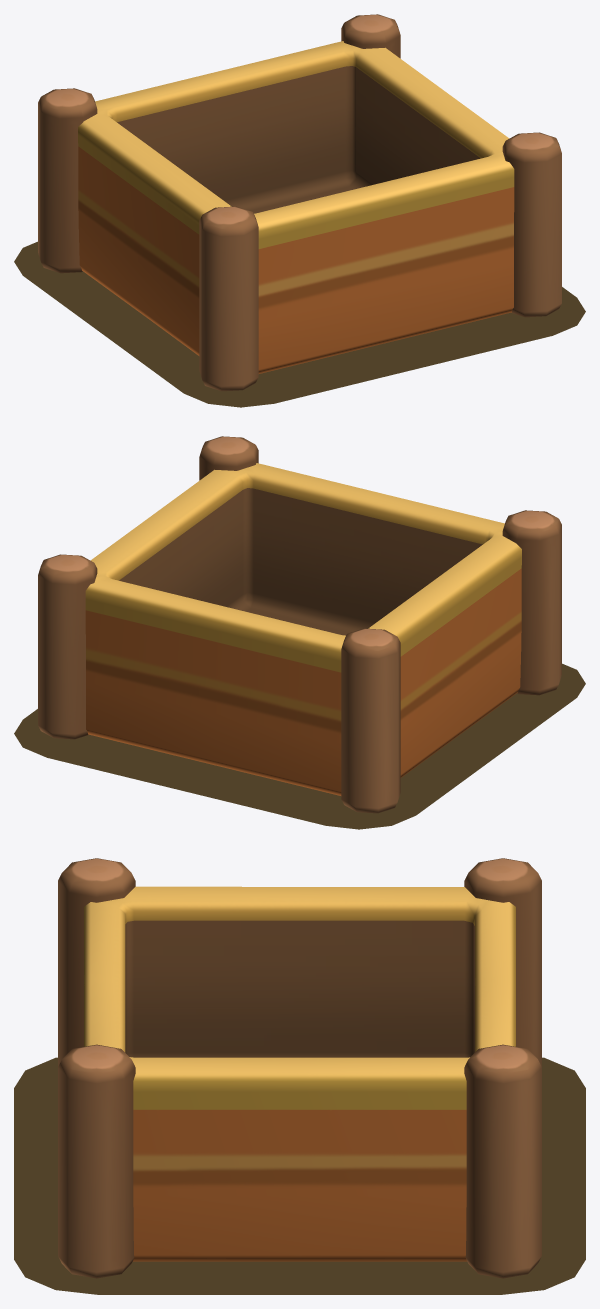
The model's file is WoodBox_B.fbx.
The picture shows the model from 3 angles, top to bottom: view 1: azimuth 30°, elevation 25°; view 2: azimuth 150°, elevation 25°; view 3: azimuth 270°, elevation 25°; orthographic projection. The views are drawn at different scales.
Parts seen in each view (by area): view 1: WoodboxB_body, WoodboxB_SDW; view 2: WoodboxB_body, WoodboxB_SDW; view 3: WoodboxB_body, WoodboxB_SDW.
Boxes of the visible parts, left/top/right/bottom form: WoodboxB_body: left=38, top=14, right=561, bottom=391; WoodboxB_SDW: left=14, top=241, right=585, bottom=407; WoodboxB_body: left=38, top=436, right=561, bottom=813; WoodboxB_SDW: left=14, top=663, right=585, bottom=829; WoodboxB_body: left=58, top=858, right=541, bottom=1278; WoodboxB_SDW: left=14, top=1057, right=585, bottom=1294.
Size of the model in its own units: 118 by 48 by 118.
Materials: 2 (1 with a texture image).
